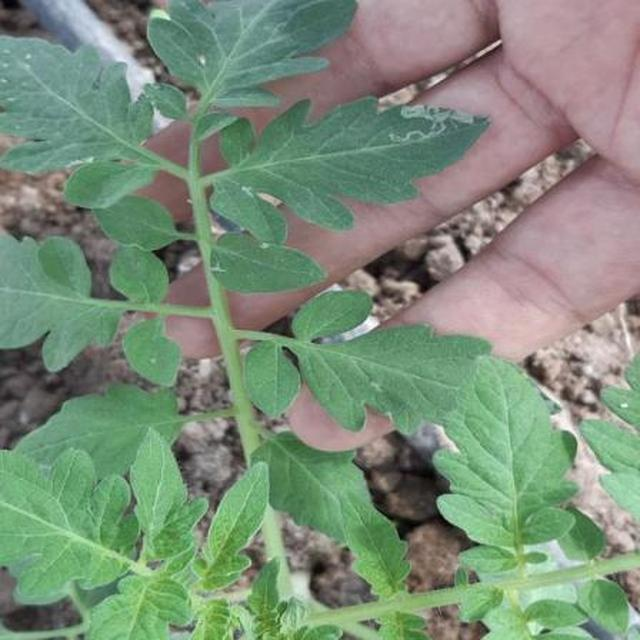Leaf Miner: (222, 216, 640, 640)
